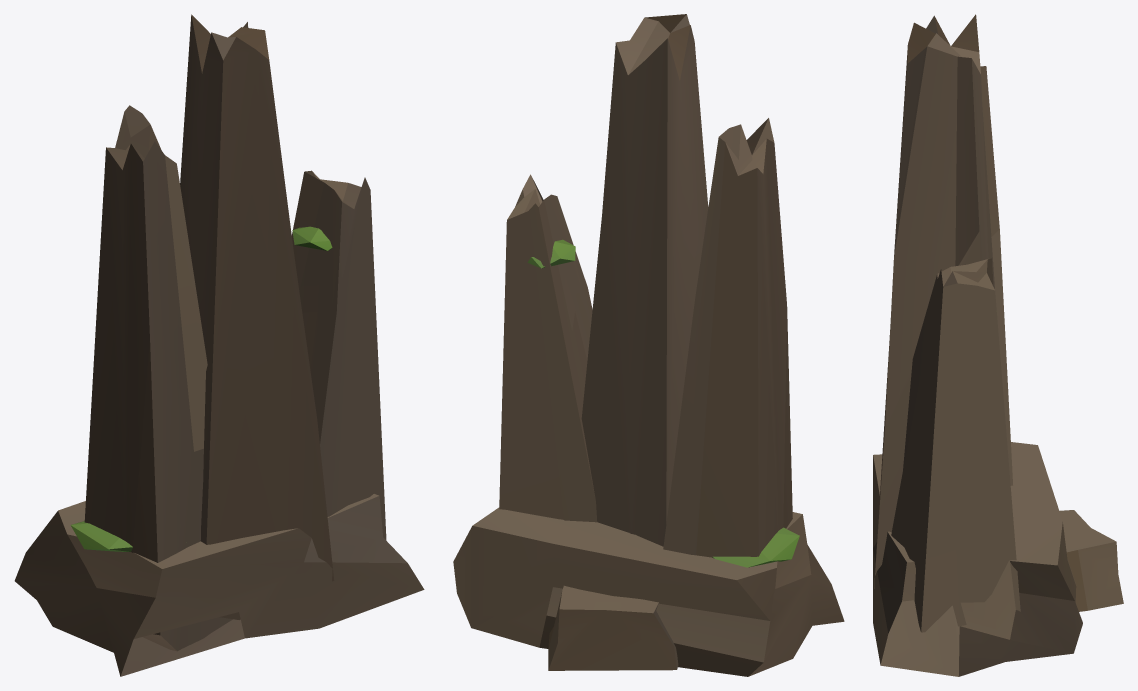
The model's file is cave_rockform_fins_v3.fbx.
3 views of the same model, side by side, from view 1: azimuth 30°, elevation 25°; view 2: azimuth 150°, elevation 25°; view 3: azimuth 270°, elevation 25° (orthographic). The views are drawn at different scales.
Visible parts, largest first — view 1: cave_rockform_fins_v3; view 2: cave_rockform_fins_v3; view 3: cave_rockform_fins_v3.
Part boxes in pixels (x1,y1,x2,y2): cave_rockform_fins_v3: [14, 14, 424, 676]; cave_rockform_fins_v3: [453, 14, 844, 676]; cave_rockform_fins_v3: [873, 14, 1123, 676].
Bounding box in the file's own units: 1085 × 1920 × 757.
